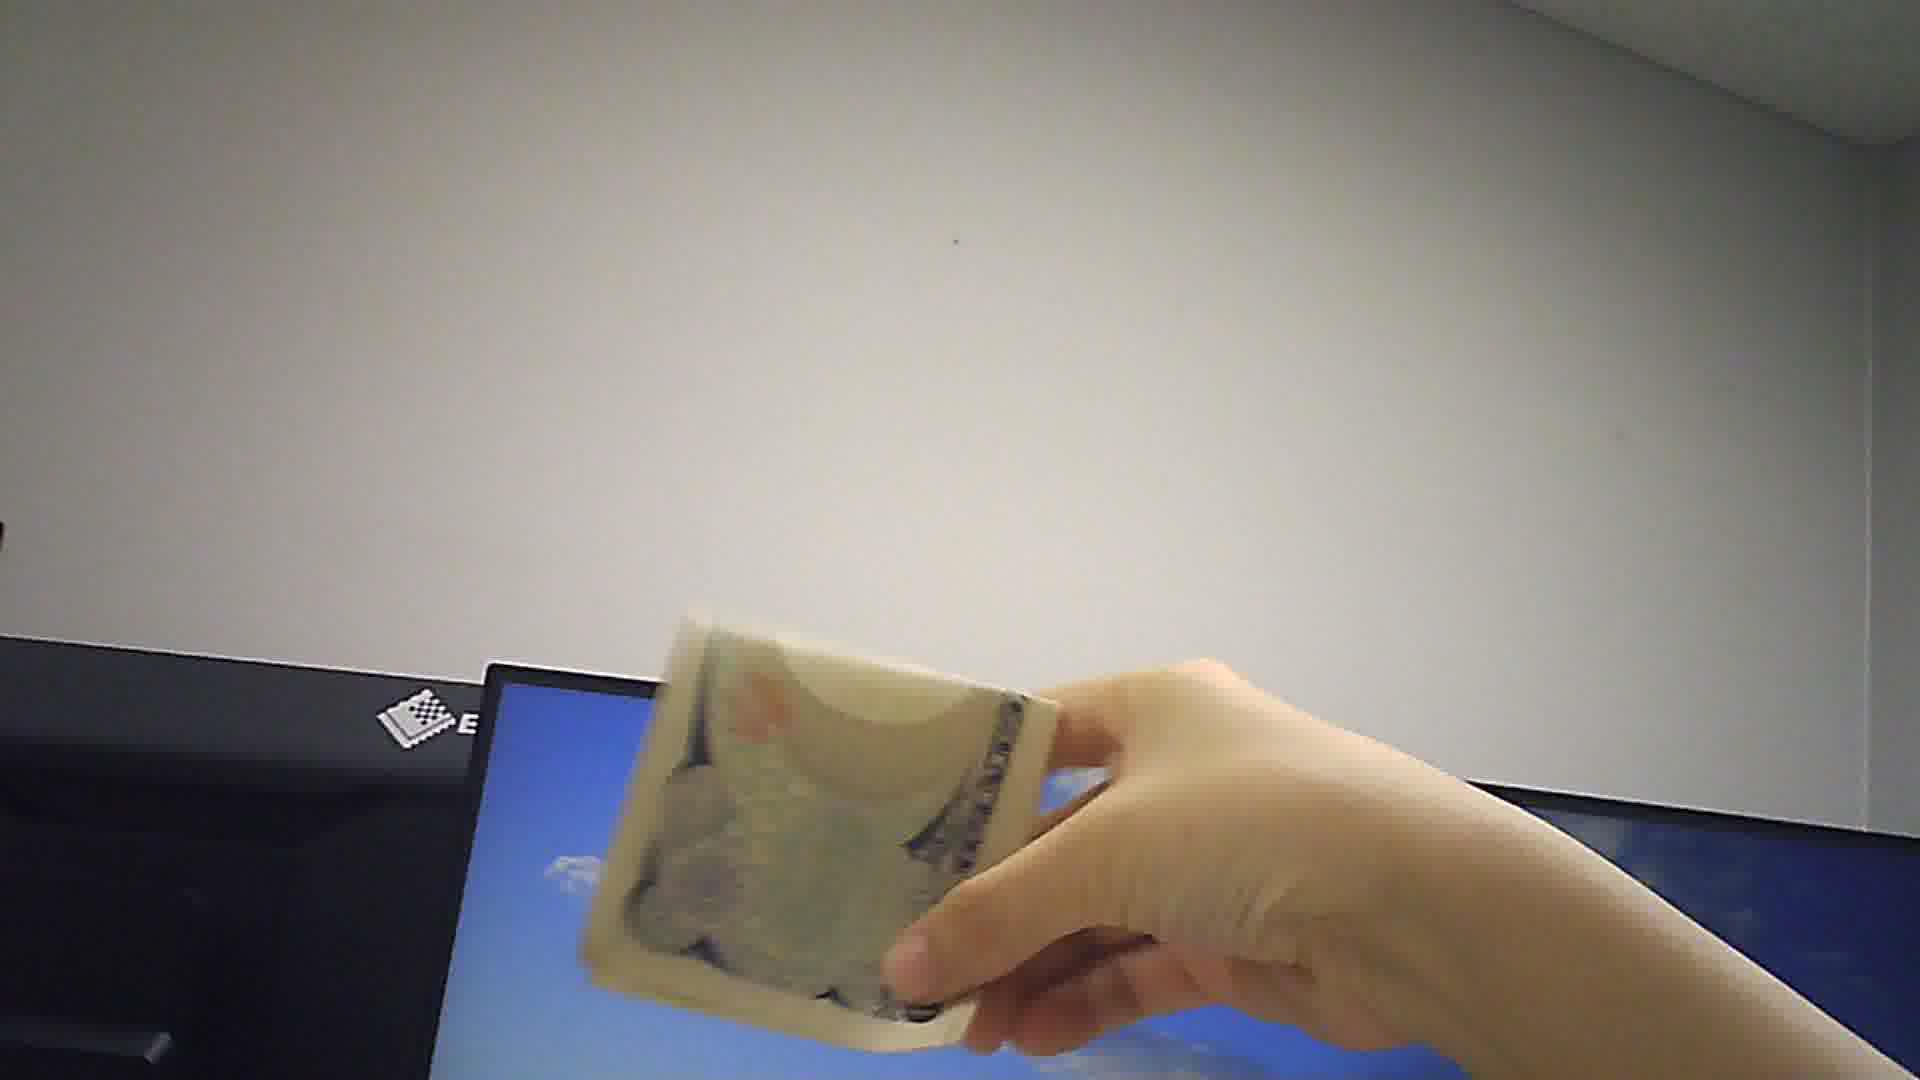1,000 Yen: (556, 618, 1060, 1047)
